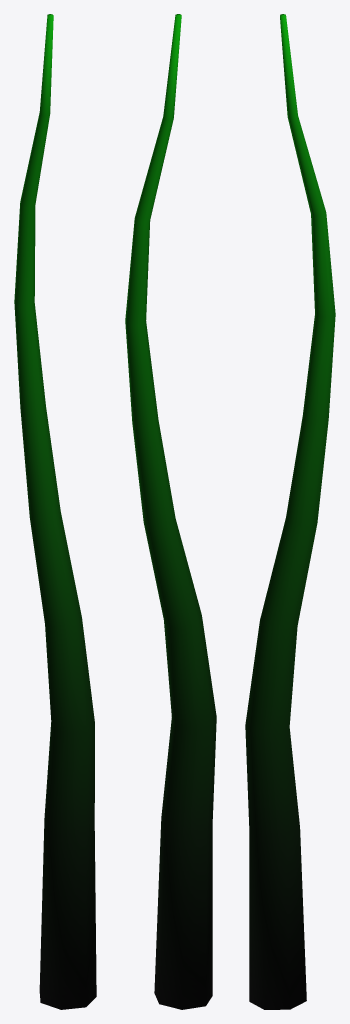
Rendered from large_tree_trunk.obj.
The picture shows the model from 3 angles, left to right: view 1: azimuth 90°, elevation 25°; view 2: azimuth 150°, elevation 25°; view 3: azimuth 330°, elevation 25°; orthographic projection.
Parts seen in each view (by area): view 1: BigTreeTrunk; view 2: BigTreeTrunk; view 3: BigTreeTrunk.
Part boxes in pixels (<box>): BigTreeTrunk: <box>14,14,96,1009</box>; BigTreeTrunk: <box>125,14,216,1009</box>; BigTreeTrunk: <box>245,14,335,1009</box>.
Size of the model in its own units: 1.82 by 27.36 by 2.07.
